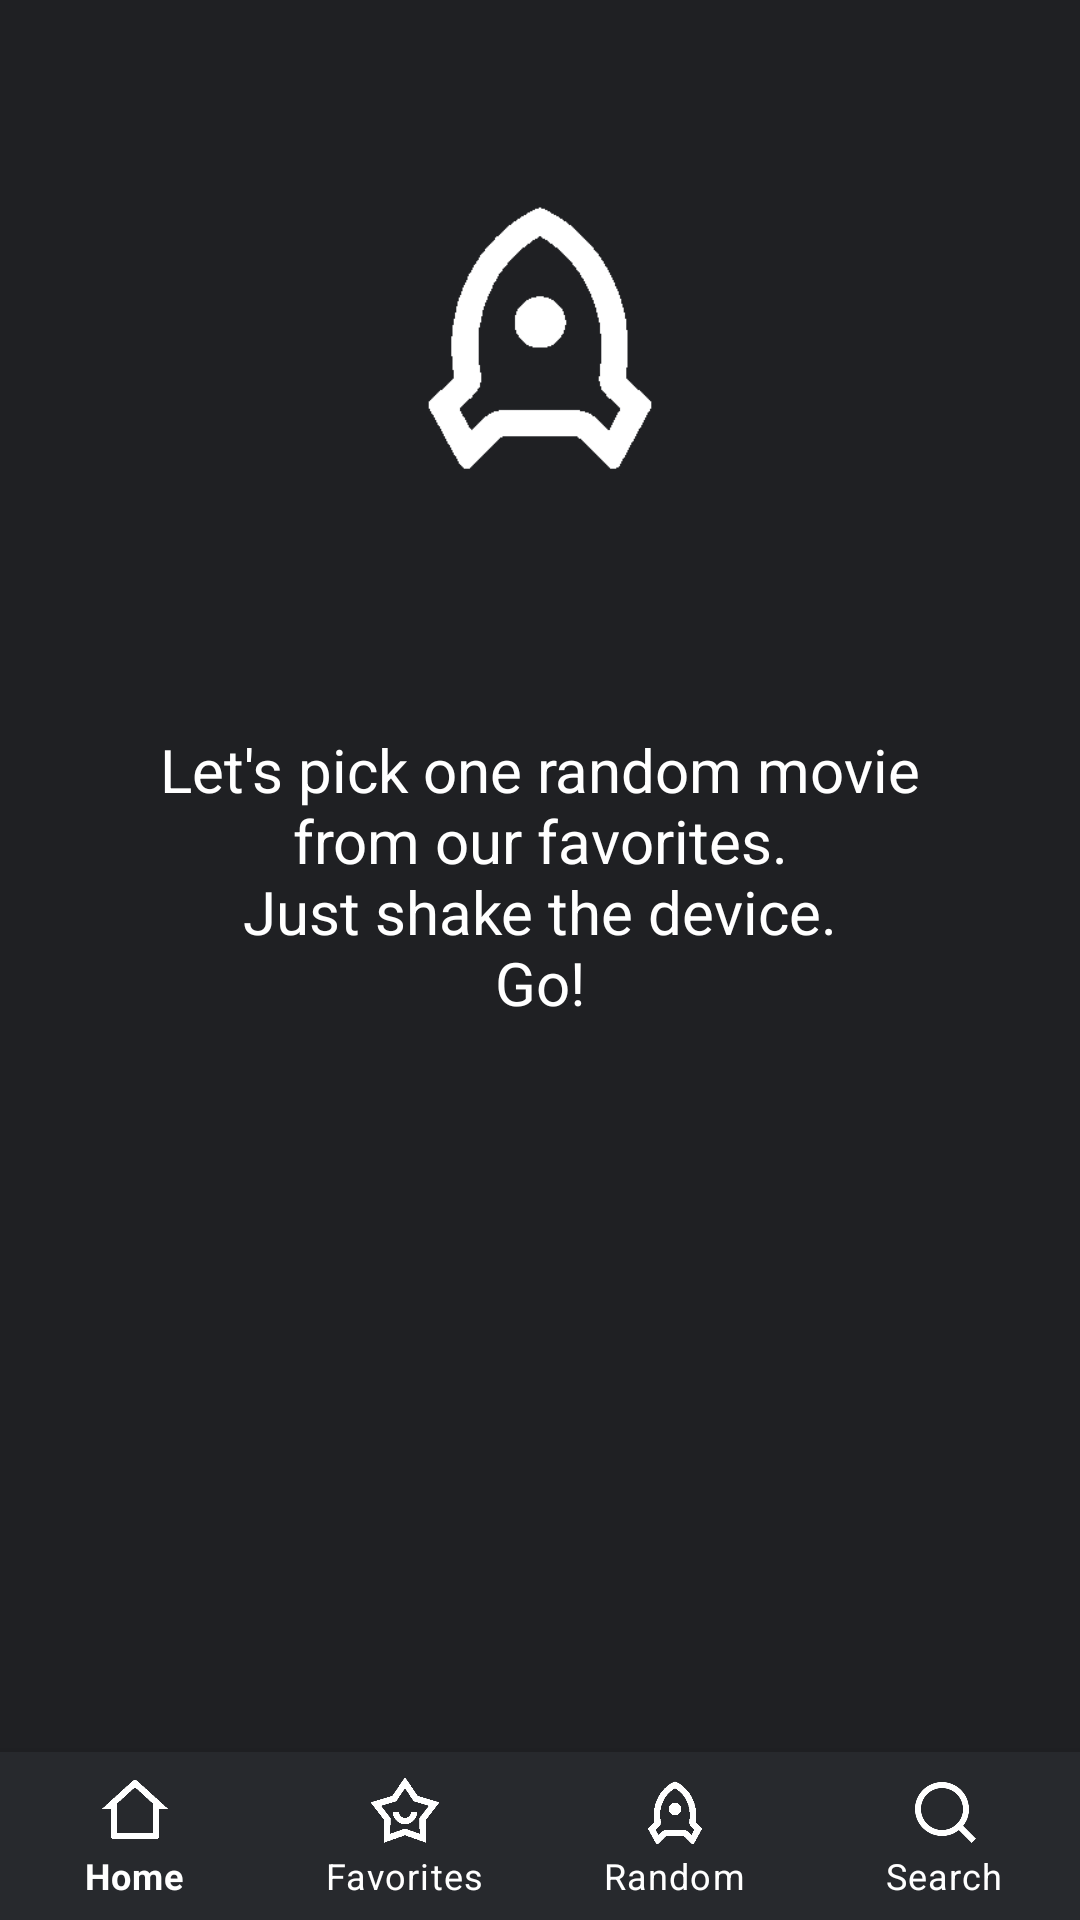

Icons on this 1080×1920 Android screen, each with the point to tap as (x=x, y=y):
Rocket image: (x=540, y=338)
